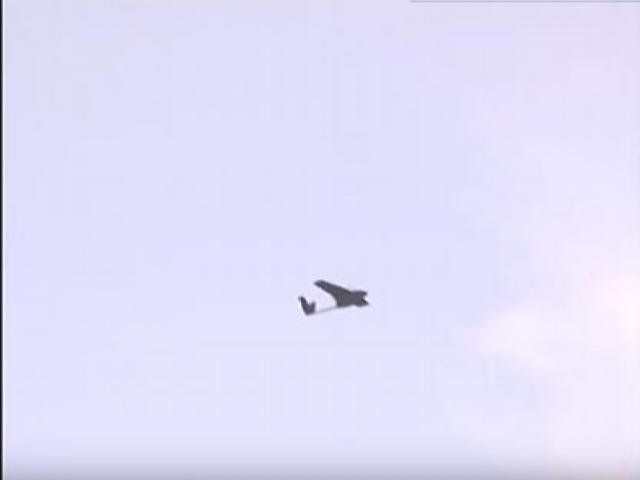uav: (294, 277, 369, 317)
